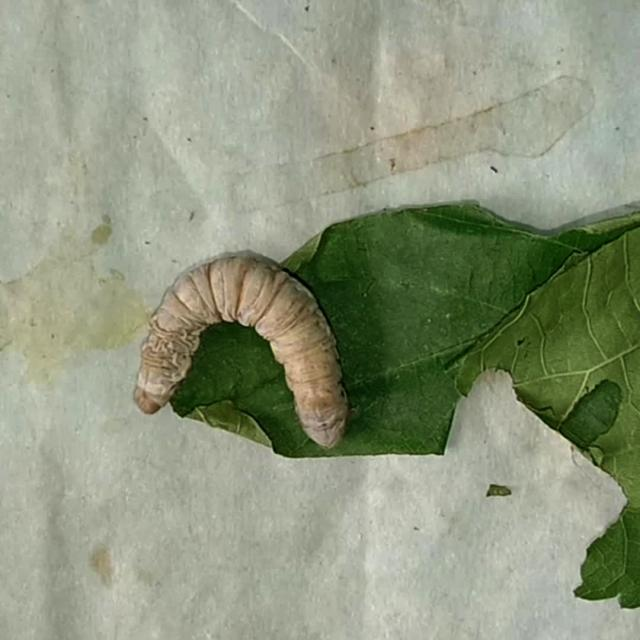Grasserie: (121, 244, 359, 456)
